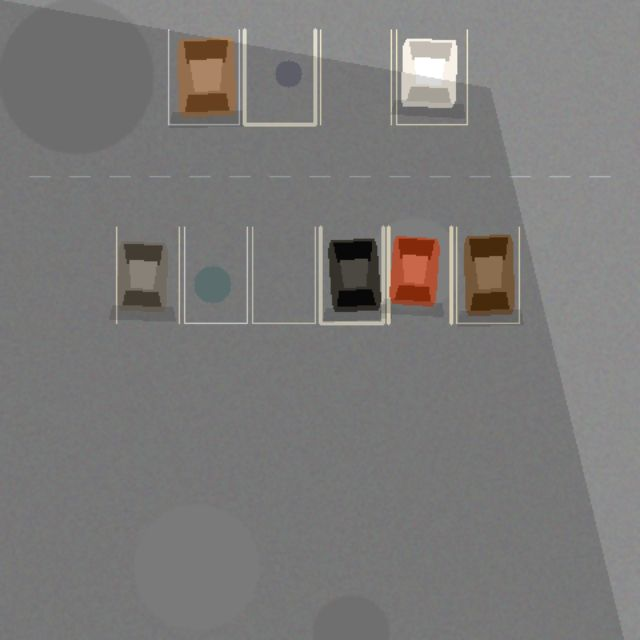space-empty: (244, 29, 315, 124), (320, 29, 391, 124), (184, 227, 247, 323), (252, 227, 315, 323)
space-occupied: (168, 29, 239, 124), (396, 29, 467, 124), (116, 227, 179, 323), (320, 227, 383, 323), (388, 227, 451, 323), (456, 227, 519, 323)
